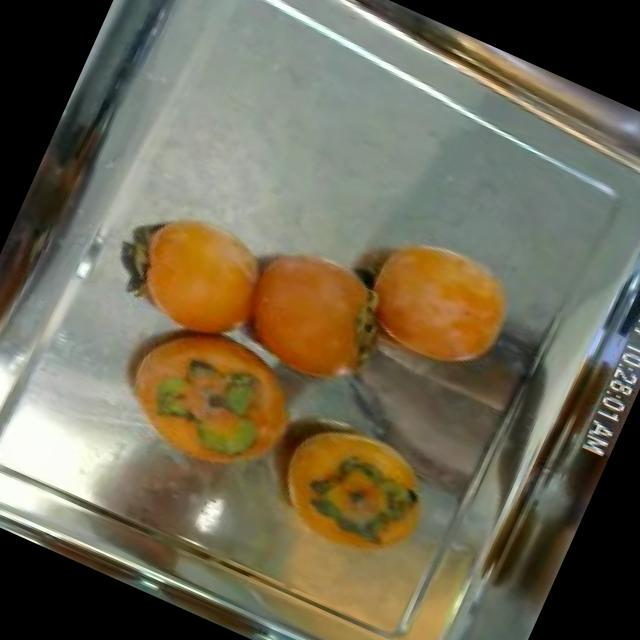Fruit: (296, 310, 536, 529), (196, 207, 421, 410), (338, 210, 543, 396), (254, 395, 462, 574), (96, 182, 290, 366), (0, 204, 80, 364)
